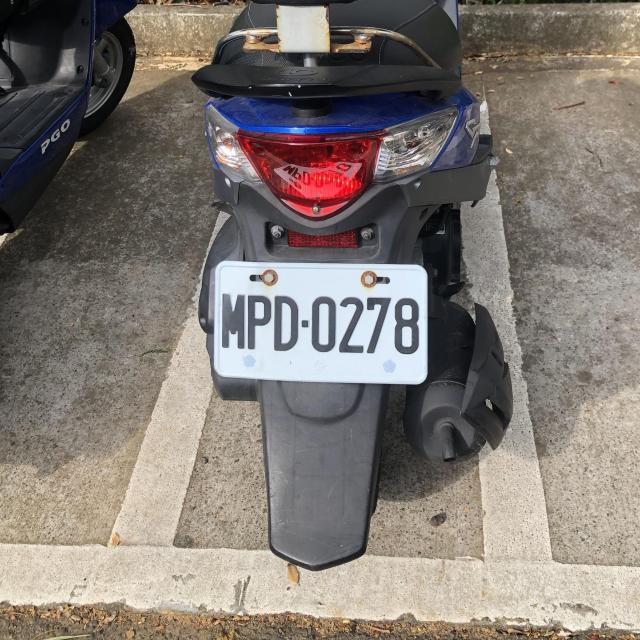W: (211, 260, 426, 384)
